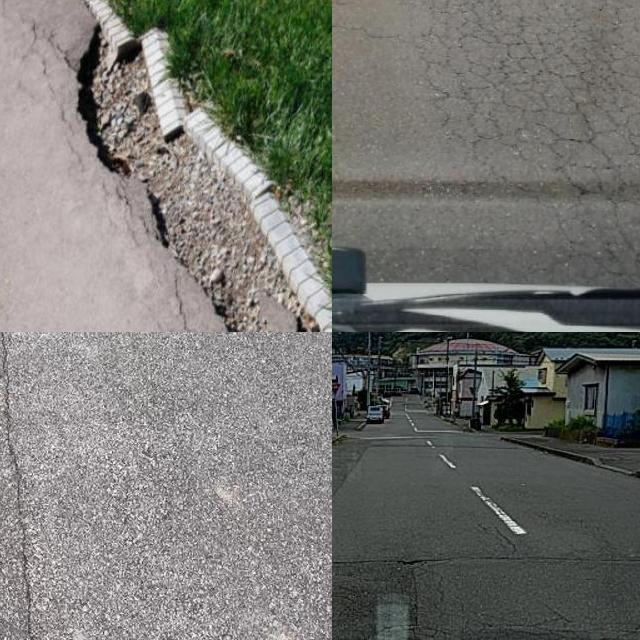Melintang: (332, 552, 640, 576)
Memanjang: (0, 332, 55, 640)
Pinggir: (72, 3, 332, 332)
Retak Buaya: (398, 0, 640, 284)
